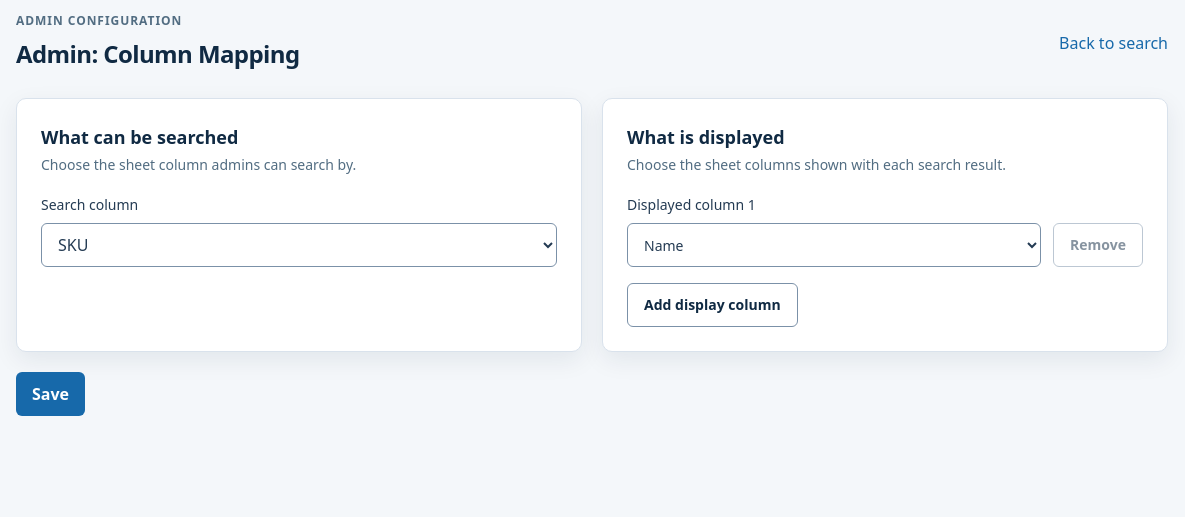
Test: AdminPage › loads one search select and one displayed select, then lets admins add and remove displayed rows
Check: the dropdown labelled "Search column" shows "SKU", box [41,223,557,267]
Check: the dropdown labelled "Displayed column 1" shows "Name", box [627,223,1041,267]
Click the button "Add display column": x=712, y=305 [627,283,798,327]
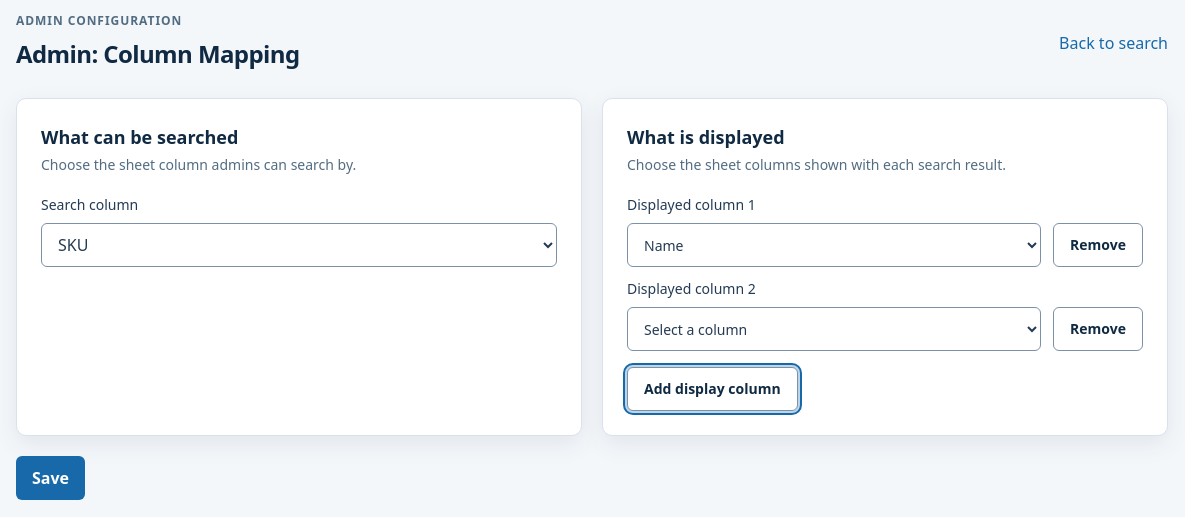
Check: the dropdown labelled "Displayed column 2" shows "Select a column"
Select "Price" in the dropdown labelled "Displayed column 2": x=834, y=329 [627,307,1041,351]
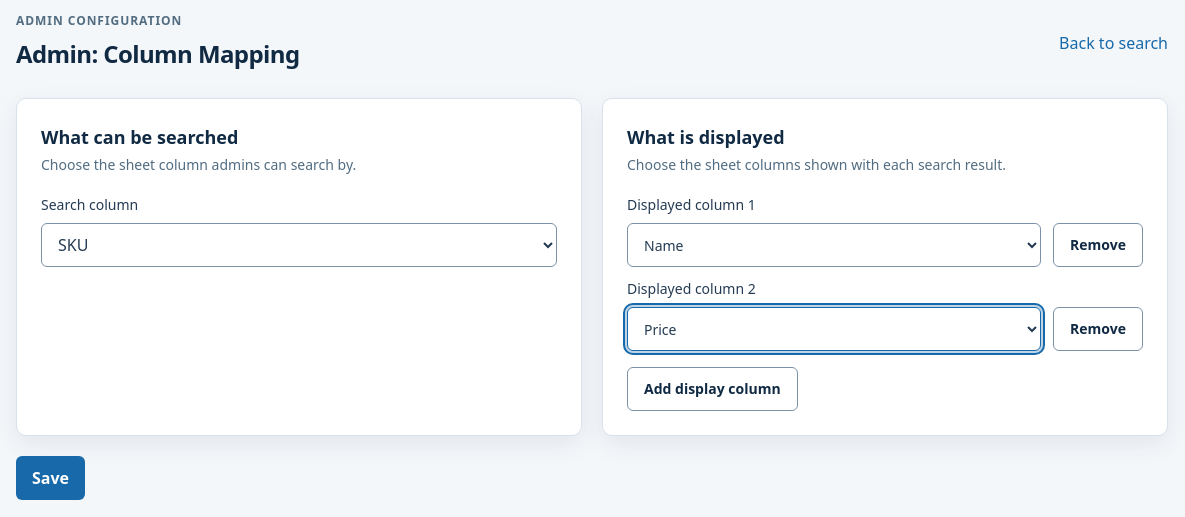
Click the button with aria-label "Remove displayed column 1": x=1098, y=245 [1053,223,1143,267]
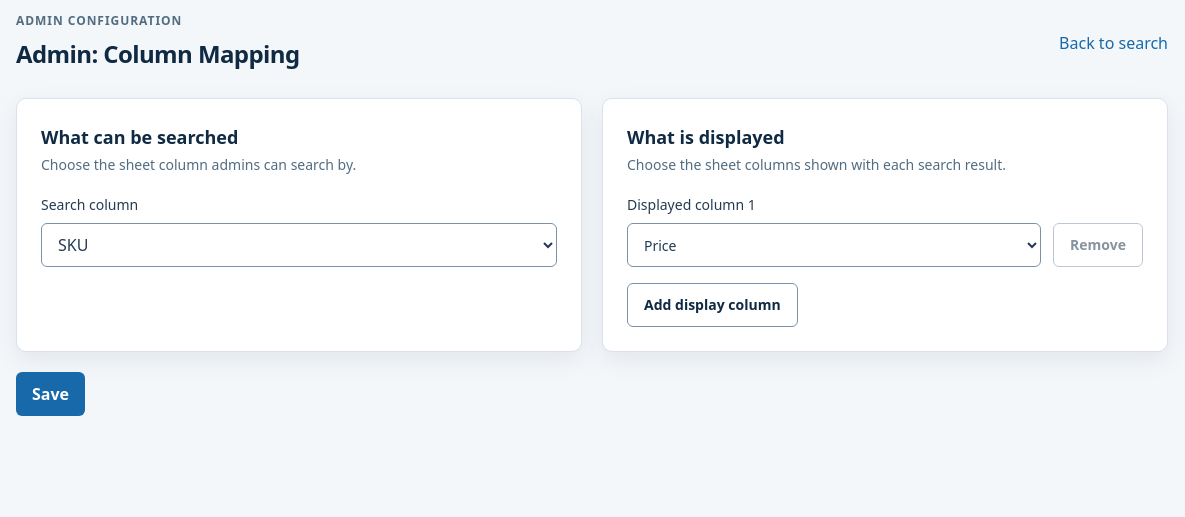
Check: the text labelled "Displayed column 2" is gone
